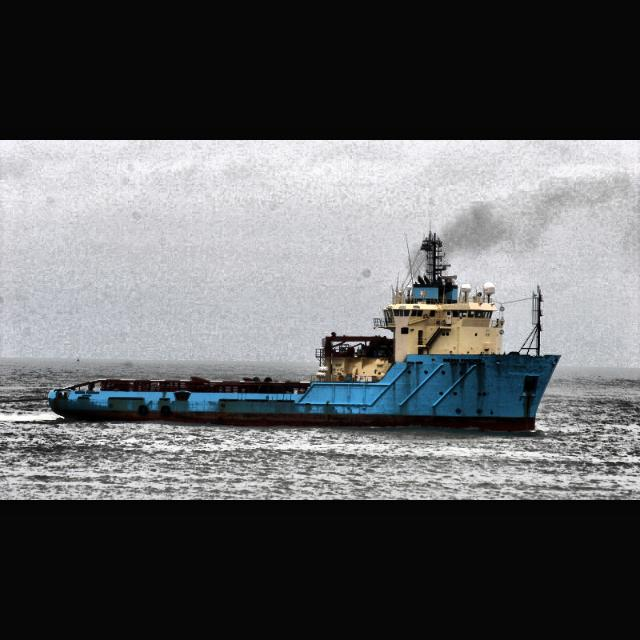anchor_handling_tug_supply: (49, 271, 564, 434)
